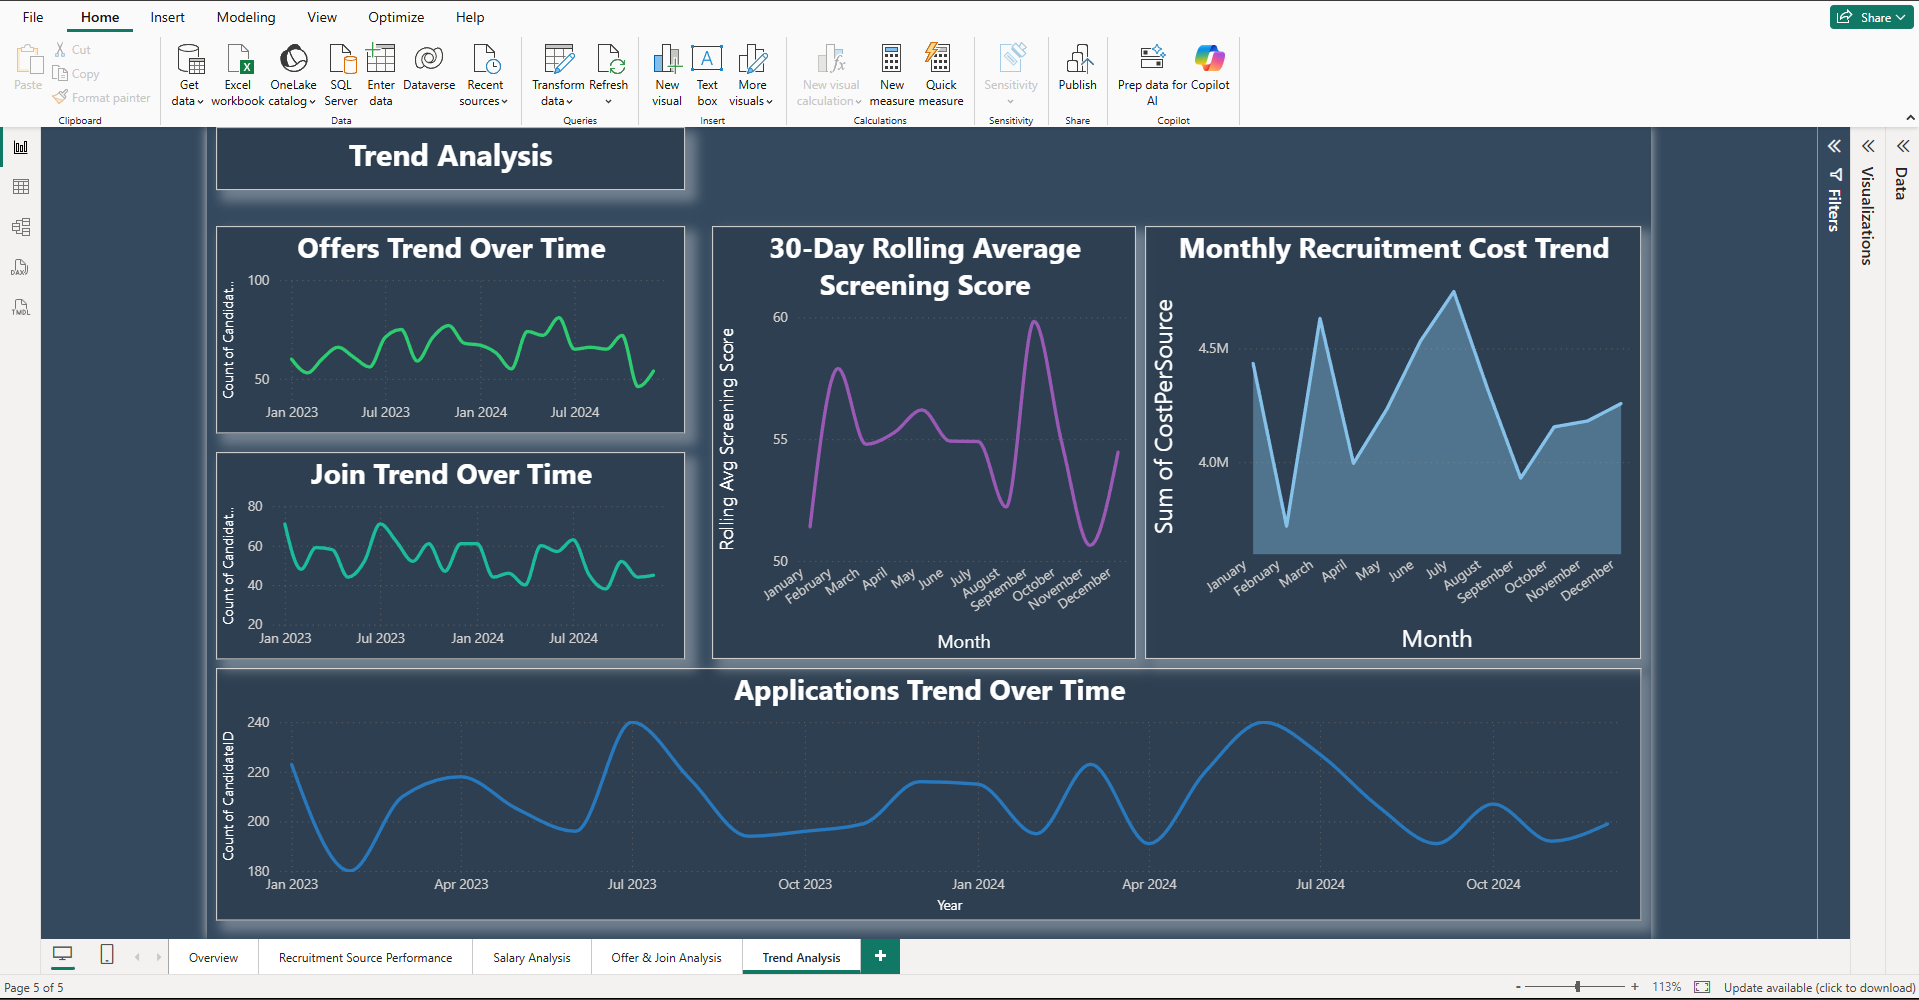

The dashboard page shown, as its layout file describes it:
{"tool":"powerbi","page":{"name":"Trend Analysis ","canvas":[1280,720],"ordinal":4},"visuals":[{"type":"textbox","box":[8,0,416,56],"z":0},{"type":"lineChart","title":"Applications Trend Over Time","fields":{"Y":["CountNonNull(talent_source_effectiveness_5000.CandidateID)"],"Category":["talent_source_effectiveness_5000.ApplicationDate.Variation.Date Hierarchy.Year","talent_source_effectiveness_5000.ApplicationDate.Variation.Date Hierarchy.Month"]},"box":[8,480,1264,224],"z":1000},{"type":"lineChart","title":"Offers Trend Over Time","fields":{"Y":["CountNonNull(talent_source_effectiveness_5000.CandidateID)"],"Category":["talent_source_effectiveness_5000.ApplicationDate.Variation.Date Hierarchy.Year","talent_source_effectiveness_5000.ApplicationDate.Variation.Date Hierarchy.Month"]},"box":[8,88,416,184],"z":2000},{"type":"lineChart","title":"Join Trend Over Time","fields":{"Y":["CountNonNull(talent_source_effectiveness_5000.CandidateID)"],"Category":["talent_source_effectiveness_5000.ApplicationDate.Variation.Date Hierarchy.Year","talent_source_effectiveness_5000.ApplicationDate.Variation.Date Hierarchy.Month"]},"box":[8,288,416,184],"z":3000},{"type":"lineChart","title":"30-Day Rolling Average Screening Score","fields":{"Category":["talent_source_effectiveness_5000.ApplicationDate.Variation.Date Hierarchy.Month"],"Y":["talent_source_effectiveness_5000.Rolling Avg Screening Score"]},"box":[448,88,376,384],"z":4000},{"type":"areaChart","title":"Monthly Recruitment Cost Trend","fields":{"Category":["talent_source_effectiveness_5000.ApplicationDate.Variation.Date Hierarchy.Month"],"Y":["Sum(talent_source_effectiveness_5000.CostPerSource)"]},"box":[832,88,440,384],"z":5000}]}

Visuals, with their boxes on the page's 1280x720 design canvas (x1, y1, x2, y2). These are canvas units, not pixel positions in the 1919x1000 screenshot, which may show the page scaled, cropped or inside an application window:
textbox: 8, 0, 424, 56
"Applications Trend Over Time" lineChart: 8, 480, 1272, 704
"Offers Trend Over Time" lineChart: 8, 88, 424, 272
"Join Trend Over Time" lineChart: 8, 288, 424, 472
"30-Day Rolling Average Screening Score" lineChart: 448, 88, 824, 472
"Monthly Recruitment Cost Trend" areaChart: 832, 88, 1272, 472
